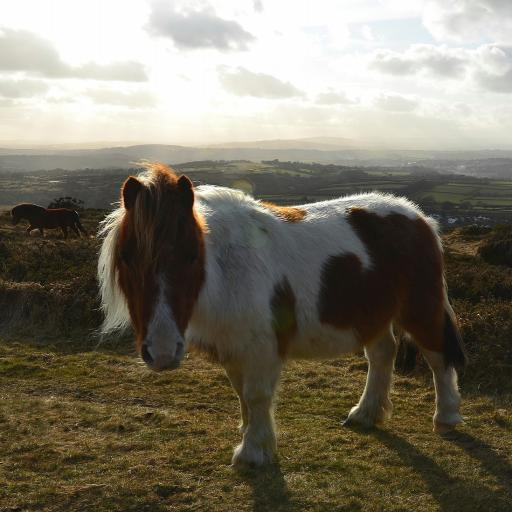horse: (95, 159, 470, 466)
